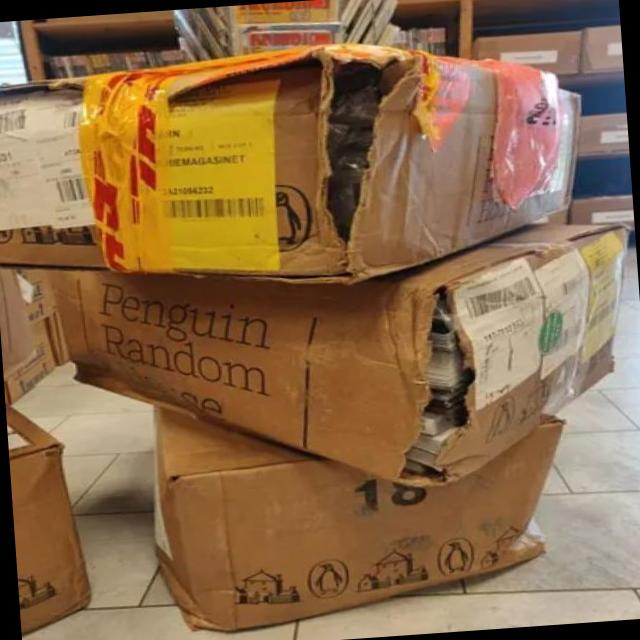crushed: (480, 421, 569, 569), (148, 417, 207, 608)
tear: (320, 52, 408, 275), (397, 287, 480, 490)
